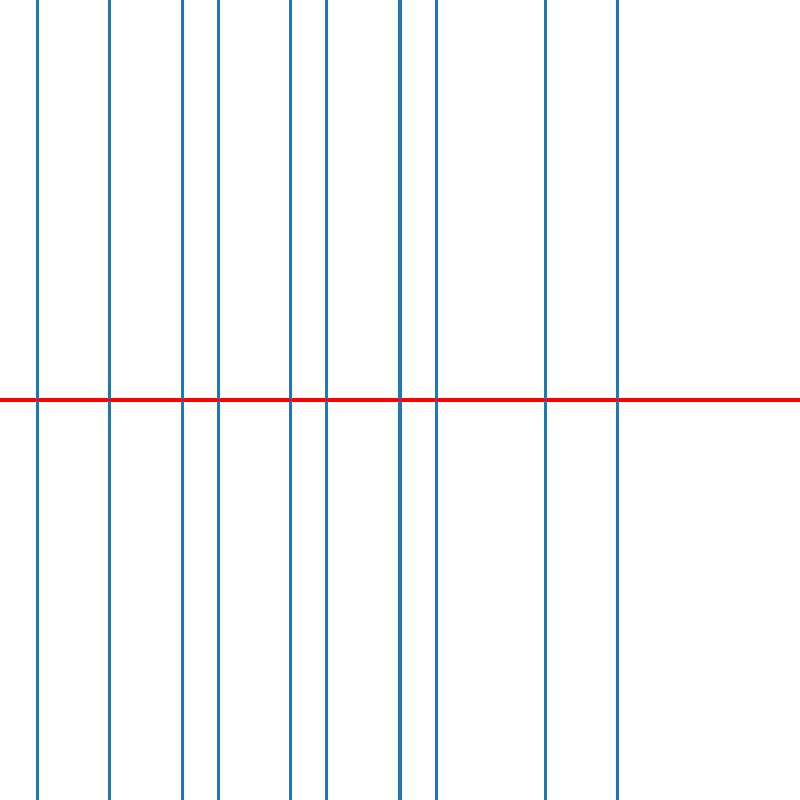root: (541, 396, 549, 404), (432, 396, 440, 404), (32, 396, 40, 404), (323, 396, 330, 404), (287, 396, 294, 404), (214, 396, 221, 404), (396, 396, 403, 404), (178, 396, 185, 404), (614, 396, 621, 404), (105, 396, 112, 404)
